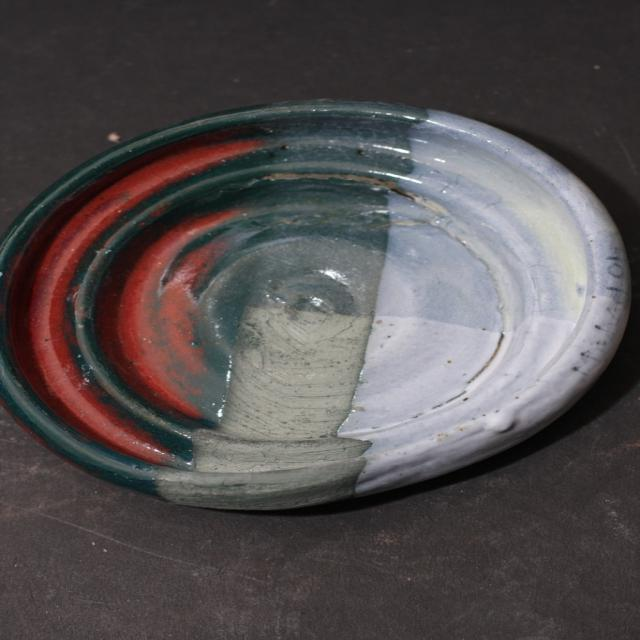ceramic plate: (1, 102, 640, 524)
